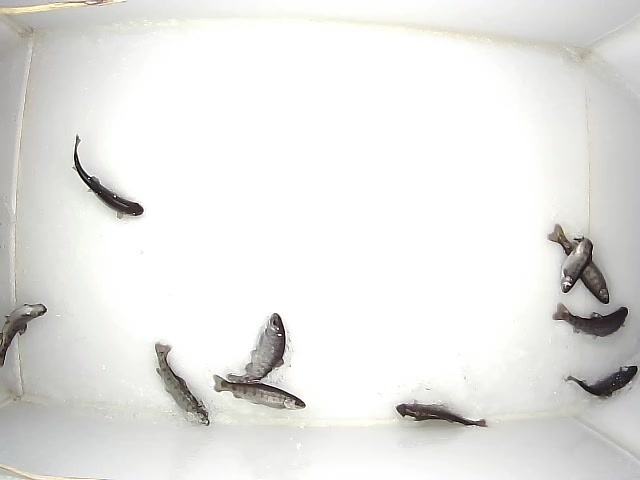fish: (72, 134, 144, 219), (547, 223, 609, 304), (155, 342, 210, 426), (226, 313, 286, 383), (213, 374, 306, 410), (1, 303, 47, 367), (552, 303, 628, 340), (396, 400, 488, 429), (565, 365, 638, 397), (561, 234, 593, 293)
